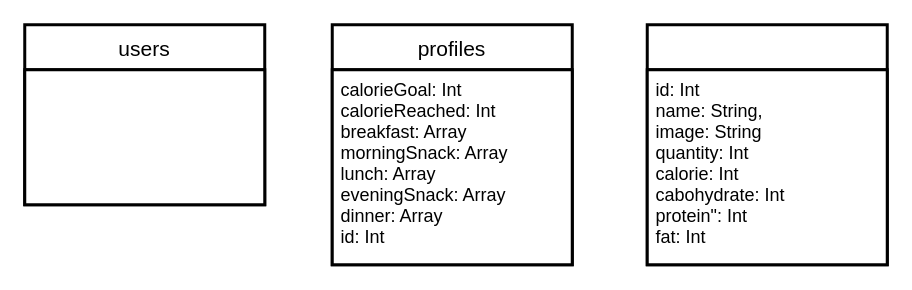
Some shapes in this 912 by 290 pixel diagram are drawn without their labels. Each missing label, with the box of its shape:
food-items: (645, 22, 888, 266)
username: String password: String id: Int: (22, 68, 266, 206)
